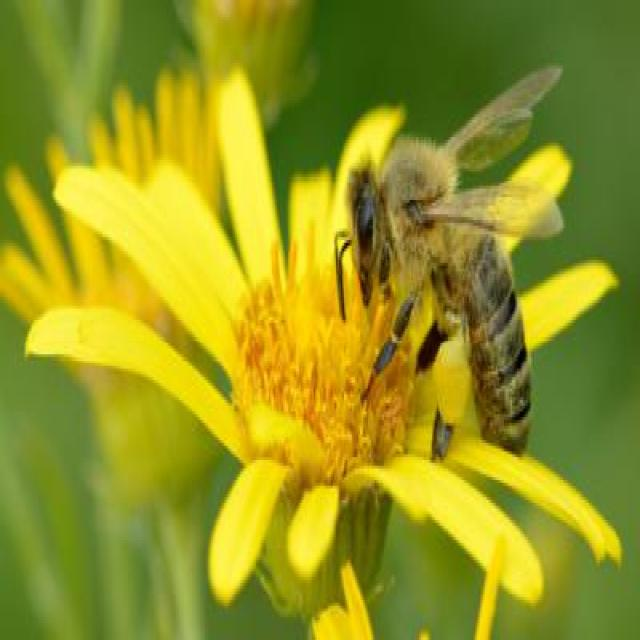antennae: (334, 225, 352, 312), (338, 238, 356, 320)
body: (348, 158, 536, 459)
insect: (331, 61, 563, 473)
legs: (360, 287, 418, 412), (429, 337, 468, 466), (409, 308, 468, 379)
mouthpart: (354, 262, 376, 306)
wings: (431, 64, 563, 178), (410, 182, 561, 234)
